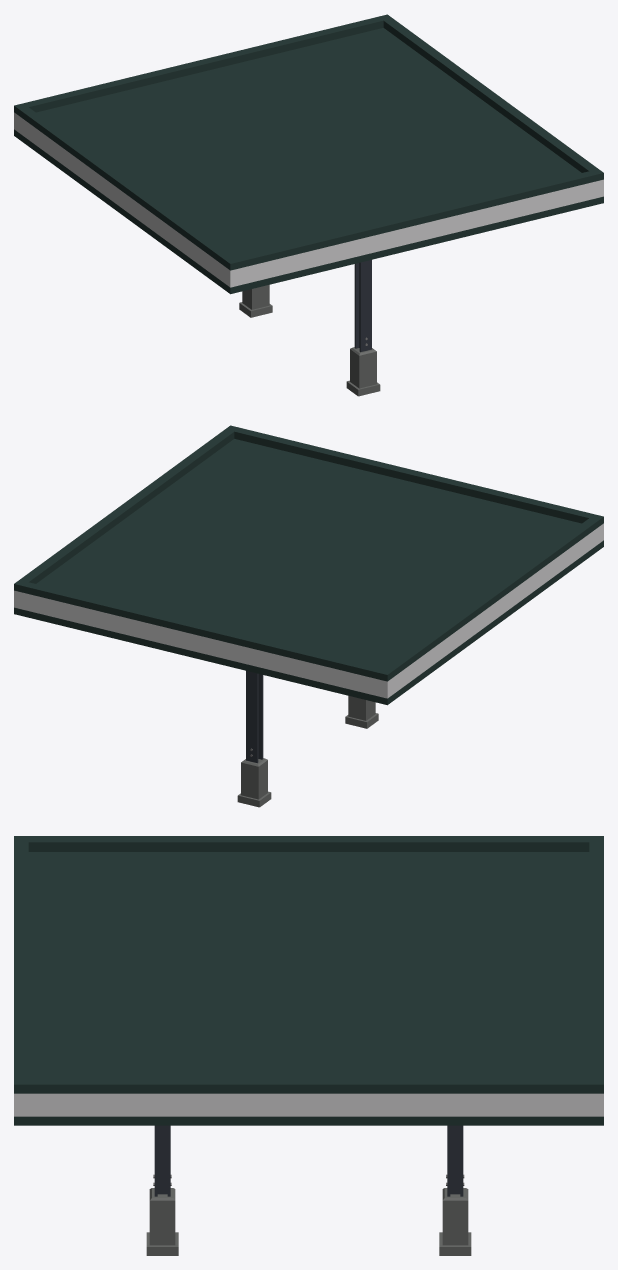
The model's file is SM_gasStationCarPort_01.gltf.
The picture shows the model from 3 angles, top to bottom: view 1: azimuth 30°, elevation 25°; view 2: azimuth 150°, elevation 25°; view 3: azimuth 270°, elevation 25°; orthographic projection. The views are drawn at different scales.
Parts seen in each view (by area): view 1: SM_gasStationCarPort_01; view 2: SM_gasStationCarPort_01; view 3: SM_gasStationCarPort_01.
Part boxes in pixels (x1,y1,x2,y2): SM_gasStationCarPort_01: [14, 14, 603, 396]; SM_gasStationCarPort_01: [14, 425, 603, 807]; SM_gasStationCarPort_01: [14, 836, 603, 1255].
Size of the model in its own units: 8.03 by 4.34 by 8.06.
Materials: 2 (1 with a texture image).
